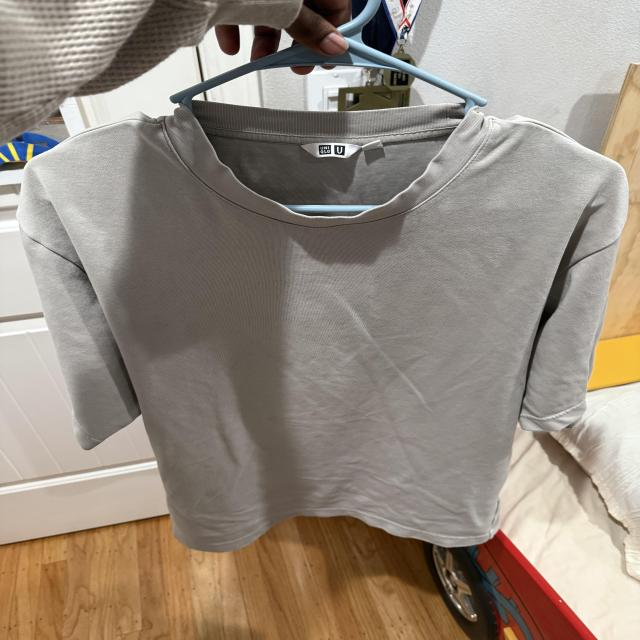back_tag: (297, 136, 387, 164)
